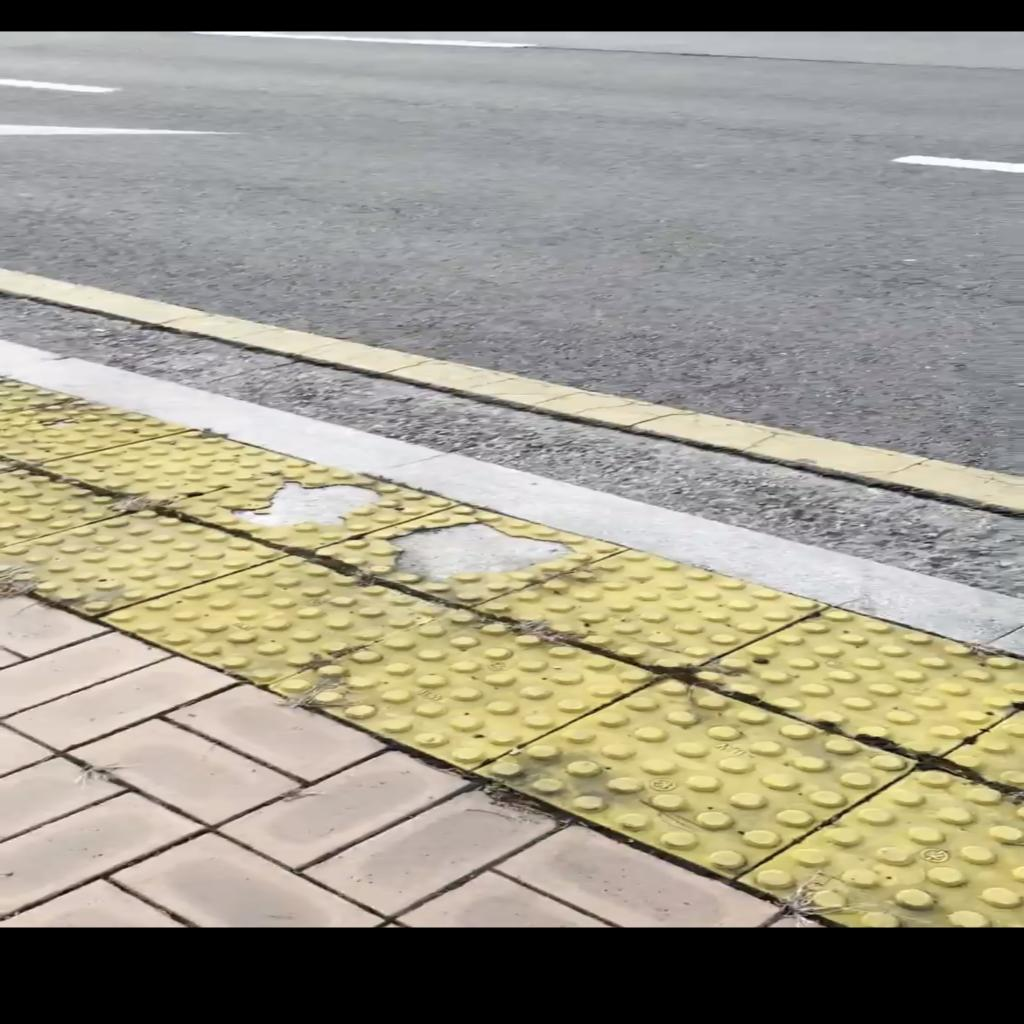Stop block broken: (308, 471, 626, 641), (164, 425, 458, 584)
Stop block normal: (470, 627, 915, 922)
